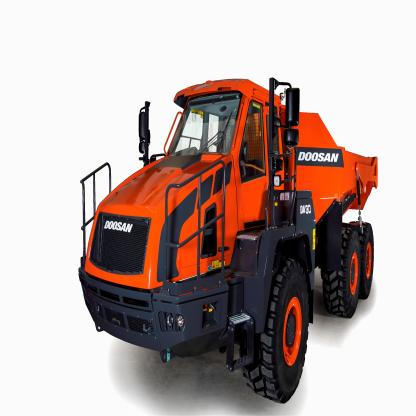dump_truck: (69, 72, 394, 396)
